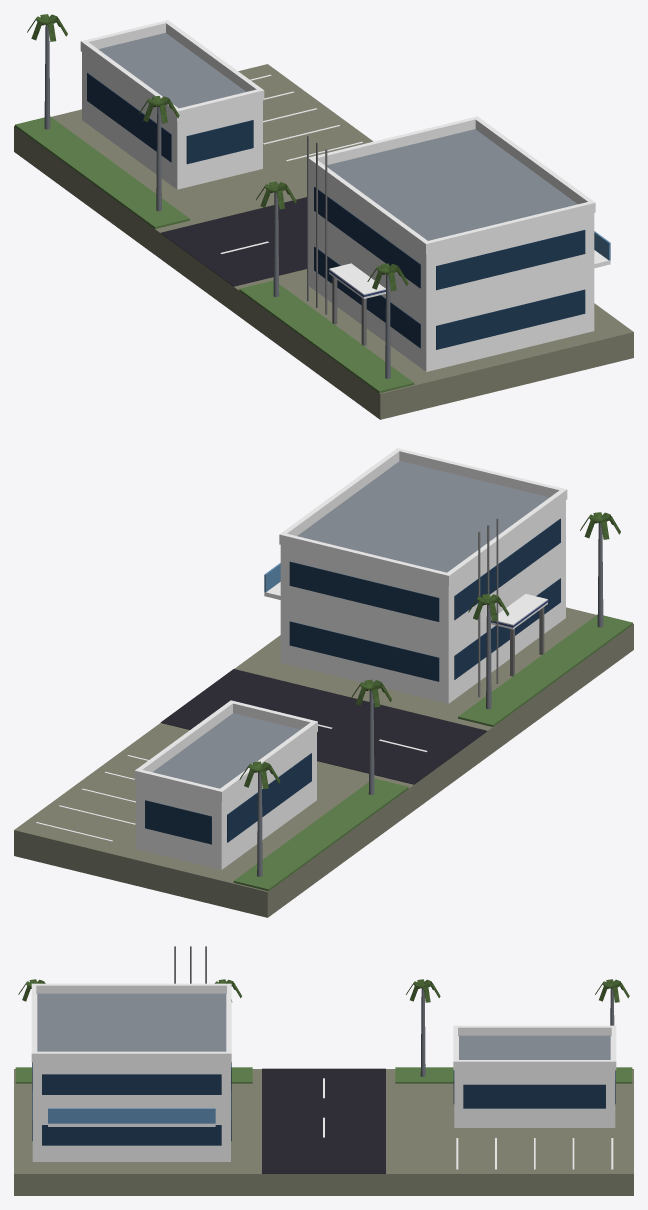
The model's file is port_building.fbx.
3 views of the same model, one above another, from view 1: azimuth 30°, elevation 25°; view 2: azimuth 150°, elevation 25°; view 3: azimuth 270°, elevation 25° (orthographic). The views are drawn at different scales.
Visible parts, largest first — view 1: a1095_0_port_building; view 2: a1095_0_port_building; view 3: a1095_0_port_building.
Part boxes in pixels (x1,y1,x2,y2): a1095_0_port_building: (14, 14, 633, 419); a1095_0_port_building: (14, 448, 633, 917); a1095_0_port_building: (14, 946, 633, 1195).
Size of the model in its own units: 16 by 11.5 by 40.
